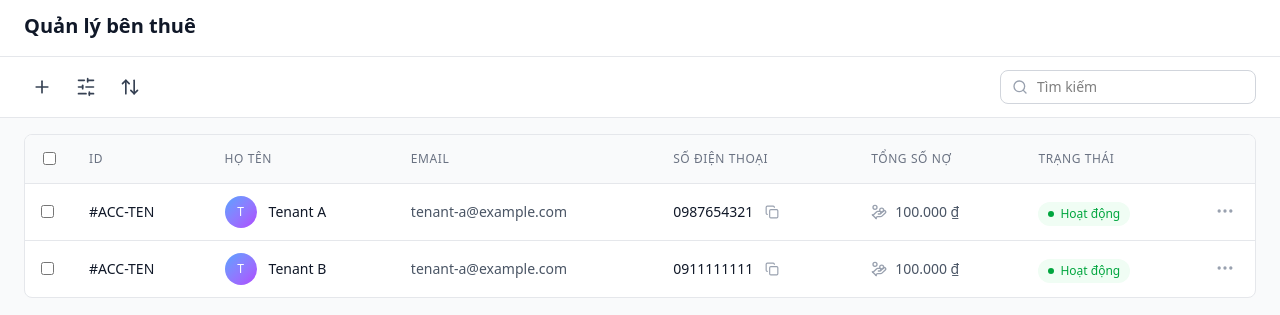
Test: Integration: Admin Tenant Management Flow › filters tenants by search query
Expected: the text "Tenant A" is shown, [269,202,326,222]
Expected: the text "Tenant B" is shown, [269,259,326,279]
Type "khong-ton-tai" into the field with placeholder "Tìm kiếm" at coordinates (1128, 87), box [1000,70,1256,104]
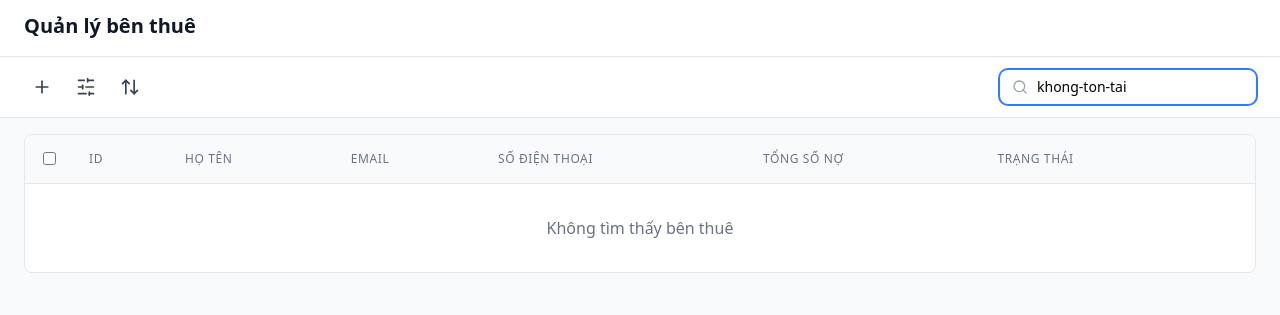
Expected: the text "Không tìm thấy bên thuê" is shown, [25,184,1255,272]
Expected: the text "Tenant A" is gone
Expected: the text "Tenant B" is gone
